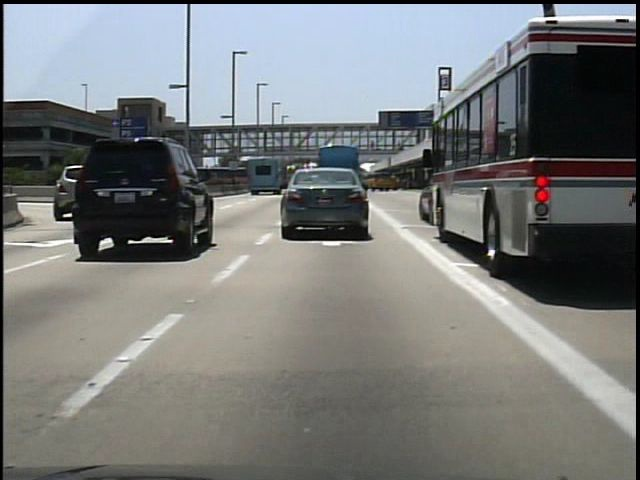person: (394, 135, 407, 157), (366, 136, 379, 157)
